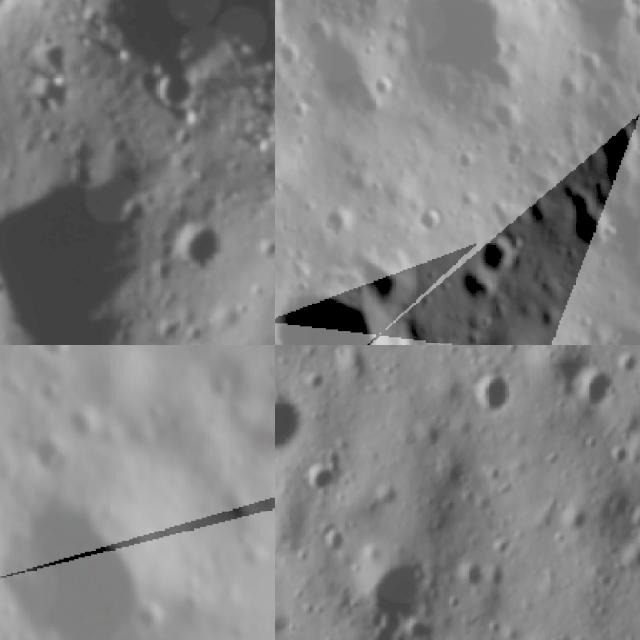crater: (12, 502, 134, 640), (399, 0, 519, 93), (275, 278, 422, 345), (361, 540, 435, 621), (582, 108, 640, 197), (169, 218, 237, 282), (558, 197, 624, 259), (475, 228, 532, 278), (573, 362, 621, 414), (275, 391, 309, 462), (153, 70, 200, 121), (469, 370, 518, 417), (307, 447, 344, 499), (415, 204, 452, 242), (27, 440, 64, 477), (552, 68, 586, 102), (67, 410, 96, 448), (136, 604, 166, 636), (33, 345, 70, 370), (38, 376, 61, 409), (614, 349, 640, 375), (7, 379, 31, 407), (182, 596, 203, 621), (205, 381, 226, 405), (140, 404, 162, 425), (628, 7, 640, 44), (181, 575, 200, 596)
